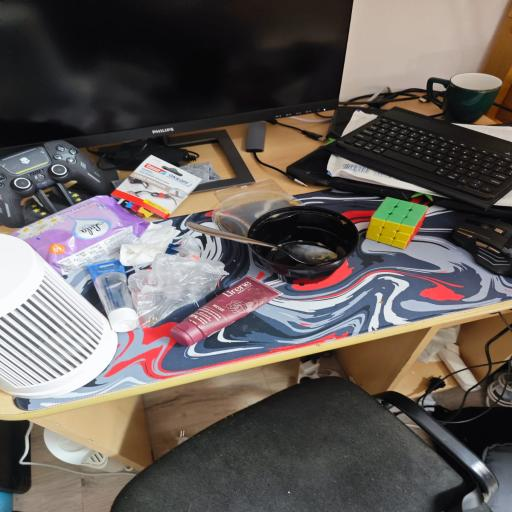Hand Cream: (165, 275, 280, 357)
Rubiks Cube: (368, 194, 427, 251)
